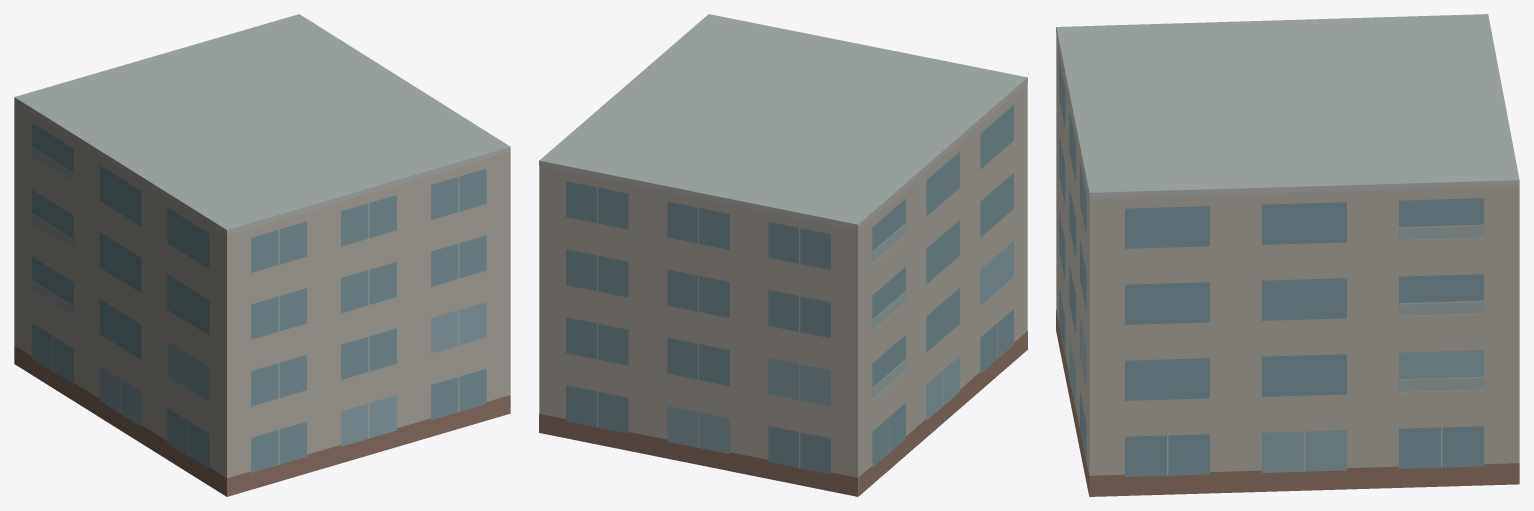
File: survey-upis-32802875.glb
3 renders of one model, left to right at view 1: azimuth 30°, elevation 25°; view 2: azimuth 150°, elevation 25°; view 3: azimuth 270°, elevation 25°, orthographic. The views are drawn at different scales.
Visible parts, largest first — view 1: survey-upis-32802875.tmp; view 2: survey-upis-32802875.tmp; view 3: survey-upis-32802875.tmp.
Boxes of the visible parts, x1,y1,x2,y2 form: survey-upis-32802875.tmp: [14, 14, 510, 496]; survey-upis-32802875.tmp: [539, 14, 1027, 496]; survey-upis-32802875.tmp: [1056, 14, 1519, 496].
Bounding box in the file's own units: 15.39 × 12.2 × 16.86.
